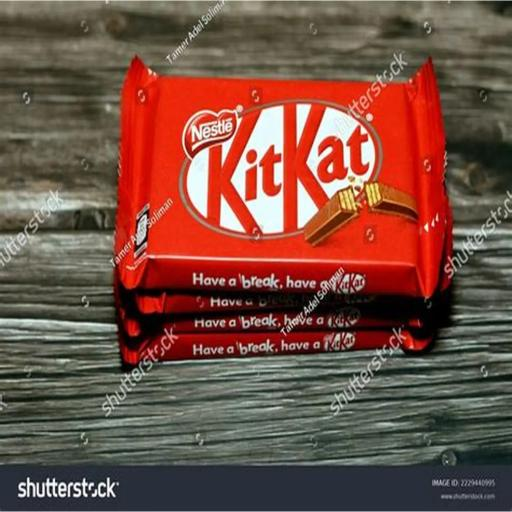kitkat: (81, 33, 475, 358)
